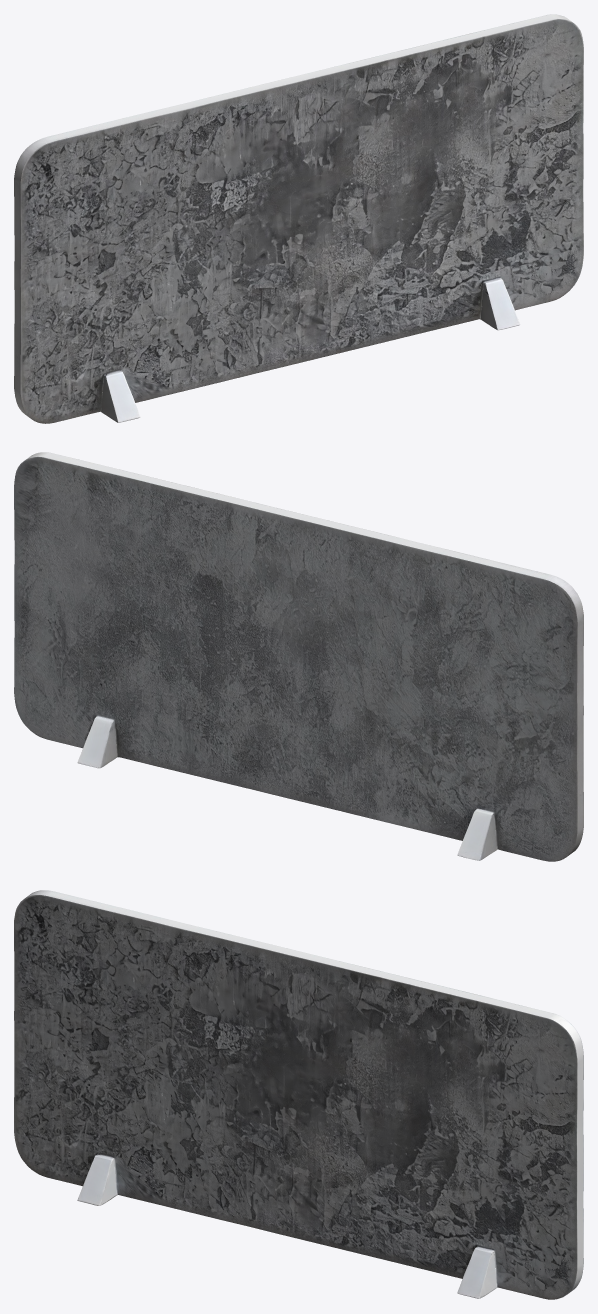
File: DisplayStand_mobile.glb
The picture shows the model from 3 angles, top to bottom: view 1: azimuth 30°, elevation 25°; view 2: azimuth 150°, elevation 25°; view 3: azimuth 330°, elevation 25°; orthographic projection.
Visible parts, largest first — view 1: DisplayStand; view 2: DisplayStand; view 3: DisplayStand.
Part boxes in pixels (x1,y1,x2,y2): DisplayStand: (14, 14, 583, 423); DisplayStand: (14, 452, 583, 861); DisplayStand: (14, 890, 583, 1299).
Size of the model in its own units: 2.09 by 1 by 0.265.
1 material, 1 textured.
